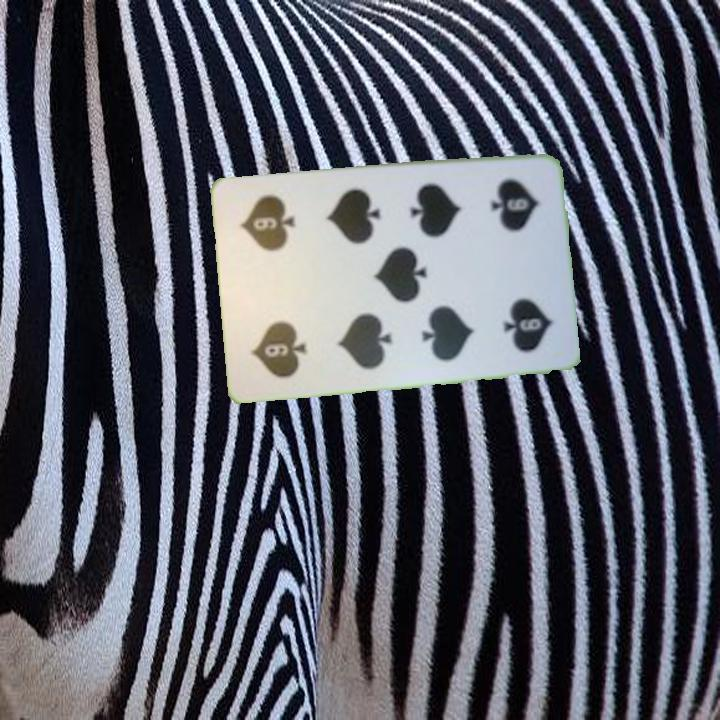s_9.png: (235, 280, 329, 387), (462, 166, 556, 272)
